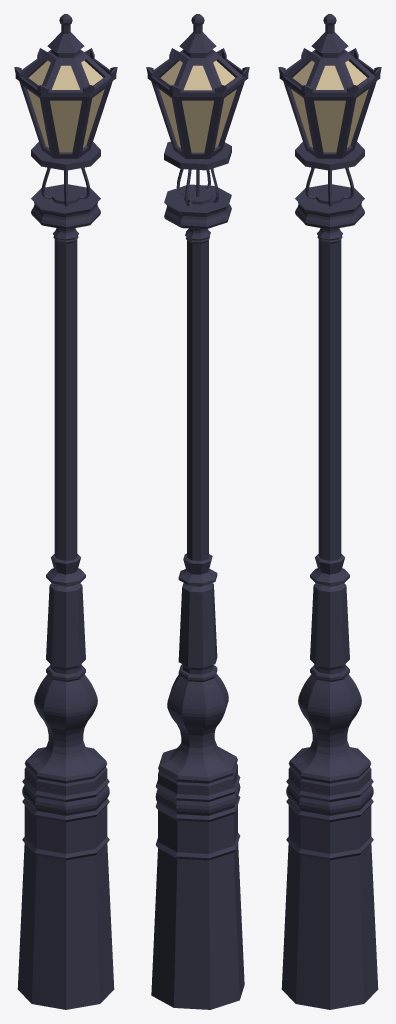
Rendered from street_light_pole.glb.
3 views of the same model, side by side, from view 1: azimuth 90°, elevation 25°; view 2: azimuth 150°, elevation 25°; view 3: azimuth 270°, elevation 25° (orthographic).
Parts seen in each view (by area): view 1: Cylinder_0; view 2: Cylinder_0; view 3: Cylinder_0.
Part boxes in pixels (left/top/right/bottom): Cylinder_0: left=14, top=14, right=117, bottom=1009; Cylinder_0: left=146, top=14, right=249, bottom=1009; Cylinder_0: left=278, top=14, right=381, bottom=1009.
Size of the model in its own units: 1.42 by 15.83 by 1.52.
Materials: 1 (1 with a texture image).
